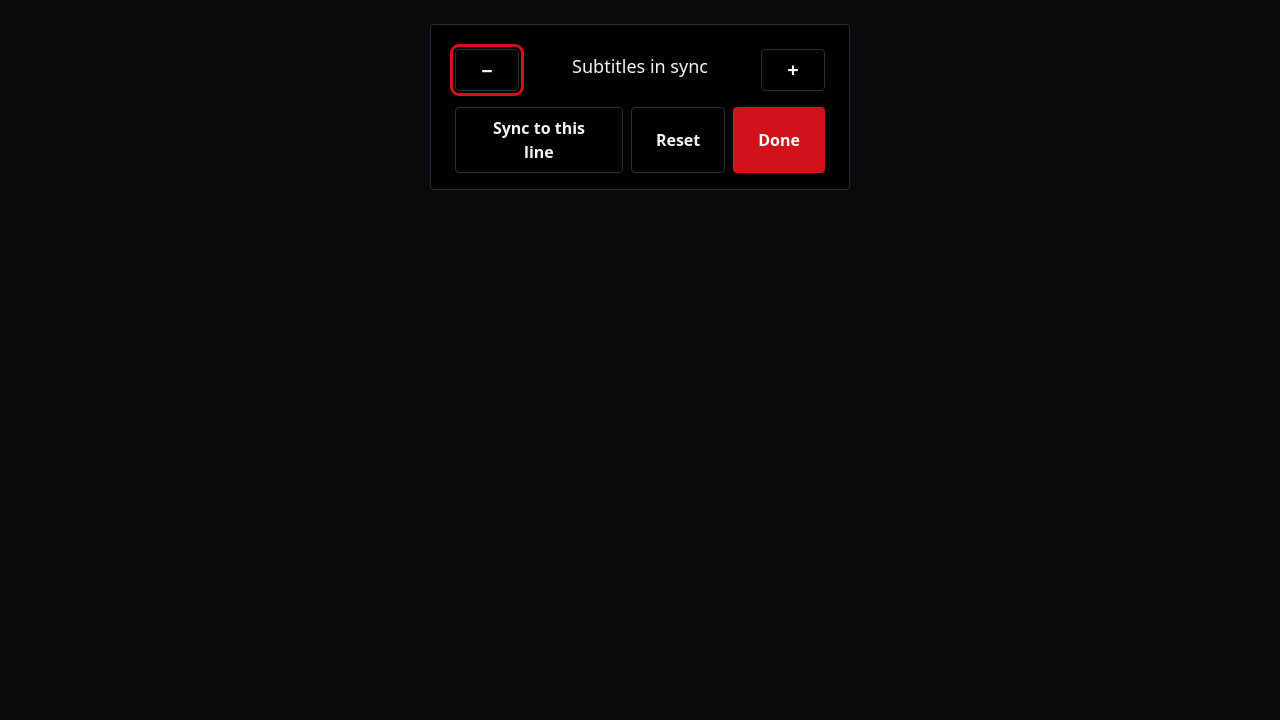
Scenario: the step buttons › stops repeating when the pointer leaves the button
The image size is (1280, 720).
Step 1. Press the mouse on the button named "Shift the subtitles later" → (793, 70), box top-left (761, 49), bottom-right (825, 91)
Step 2. Move the pointer off the button named "Shift the subtitles later", box top-left (761, 49), bottom-right (825, 91)
Wait 2400 ms
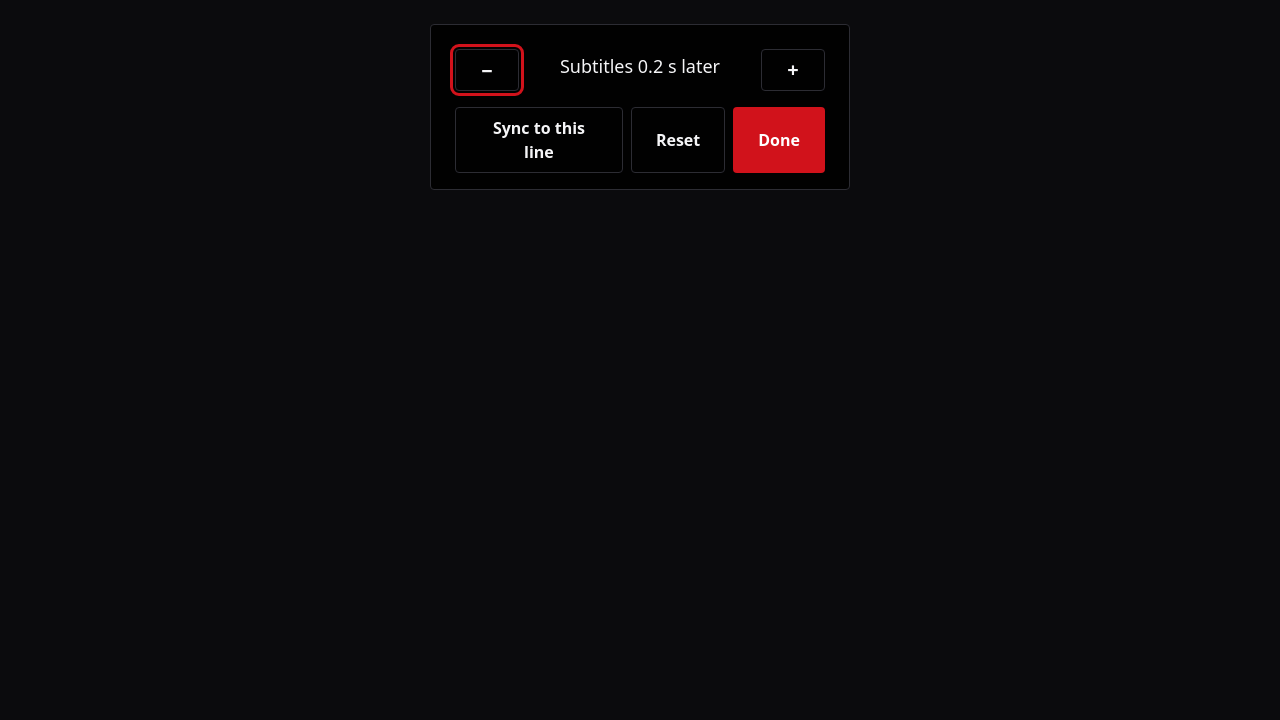
Now the message "Subtitles 0.2 s later" is shown, box top-left (560, 54), bottom-right (720, 78)
